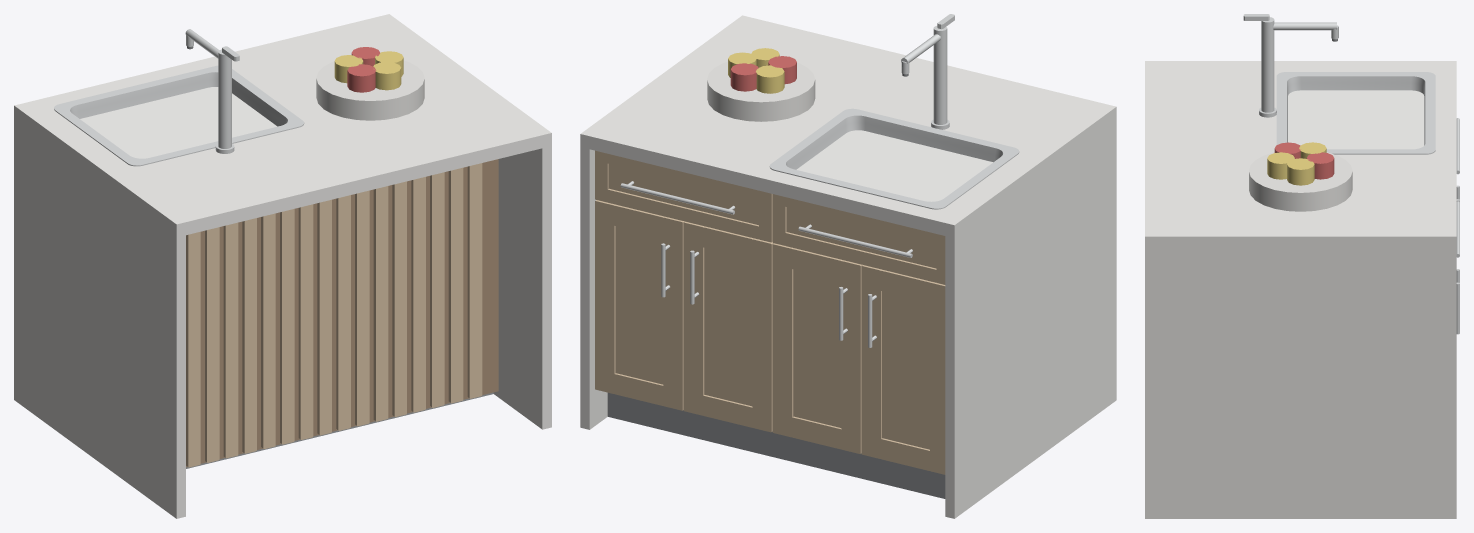
3 views of the same model, side by side, from view 1: azimuth 30°, elevation 25°; view 2: azimuth 150°, elevation 25°; view 3: azimuth 270°, elevation 25° (orthographic). The views are drawn at different scales.
Visible parts, largest first — view 1: Đảo bếp Dài=1200; Rộng=900; view 2: Đảo bếp Dài=1200; Rộng=900; view 3: Đảo bếp Dài=1200; Rộng=900.
Boxes of the visible parts, x1,y1,x2,y2 form: Đảo bếp Dài=1200; Rộng=900: (14,14,551,518); Đảo bếp Dài=1200; Rộng=900: (580,14,1116,518); Đảo bếp Dài=1200; Rộng=900: (1145,14,1459,518).
Size of the model in its own units: 1.2 by 1.21 by 0.91.
